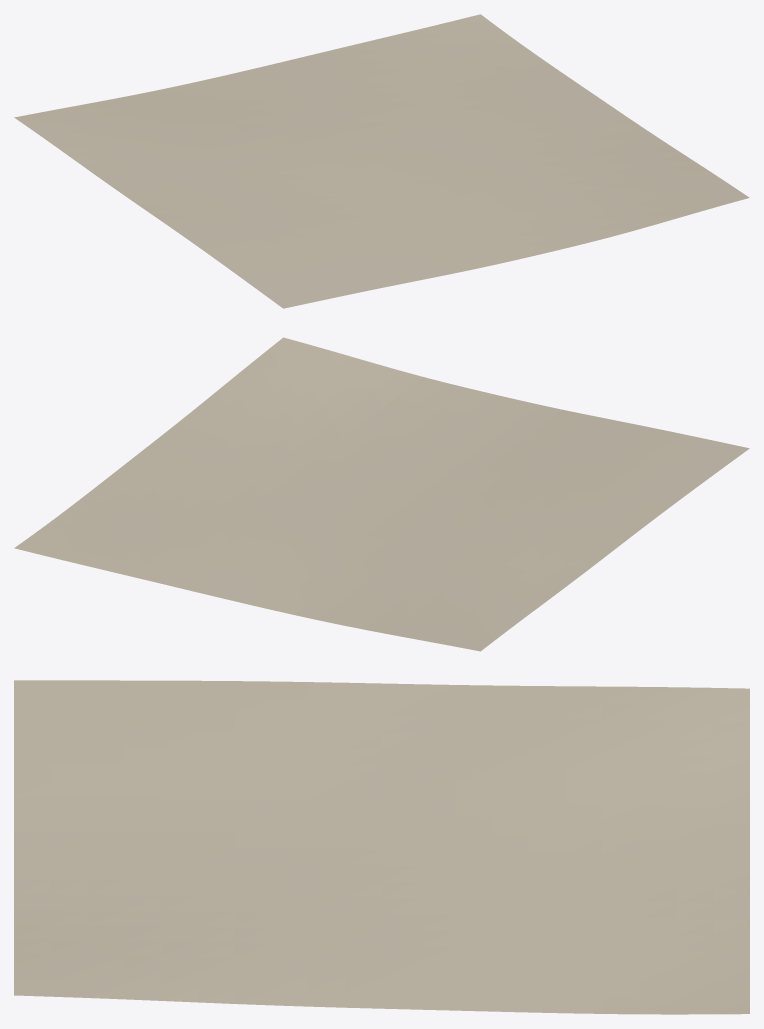
The model's file is bolak_12_-3.glb.
3 views of the same model, one above another, from view 1: azimuth 30°, elevation 25°; view 2: azimuth 150°, elevation 25°; view 3: azimuth 270°, elevation 25° (orthographic). The views are drawn at different scales.
Visible parts, largest first — view 1: Yer_Tuproq-col; view 2: Yer_Tuproq-col; view 3: Yer_Tuproq-col.
Boxes of the visible parts, <box> form: Yer_Tuproq-col: <box>14,14,749,308</box>; Yer_Tuproq-col: <box>14,337,749,651</box>; Yer_Tuproq-col: <box>14,680,749,1014</box>.
Size of the model in its own units: 400 by 13.82 by 400.
